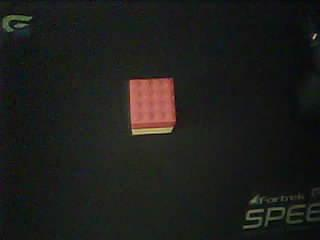lego: (129, 77, 176, 136)
